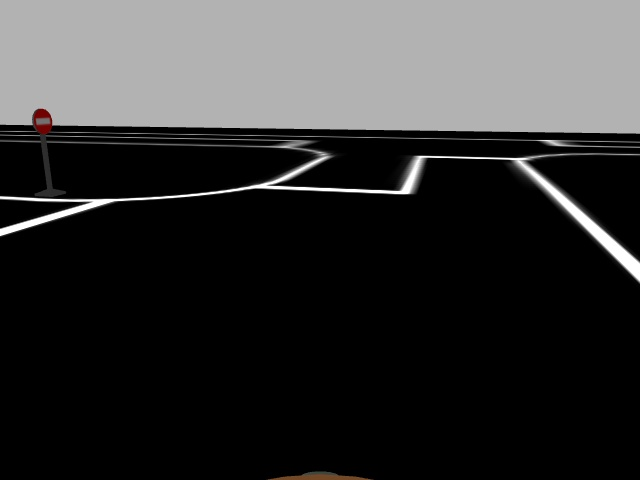prohibited: (31, 107, 54, 137)
